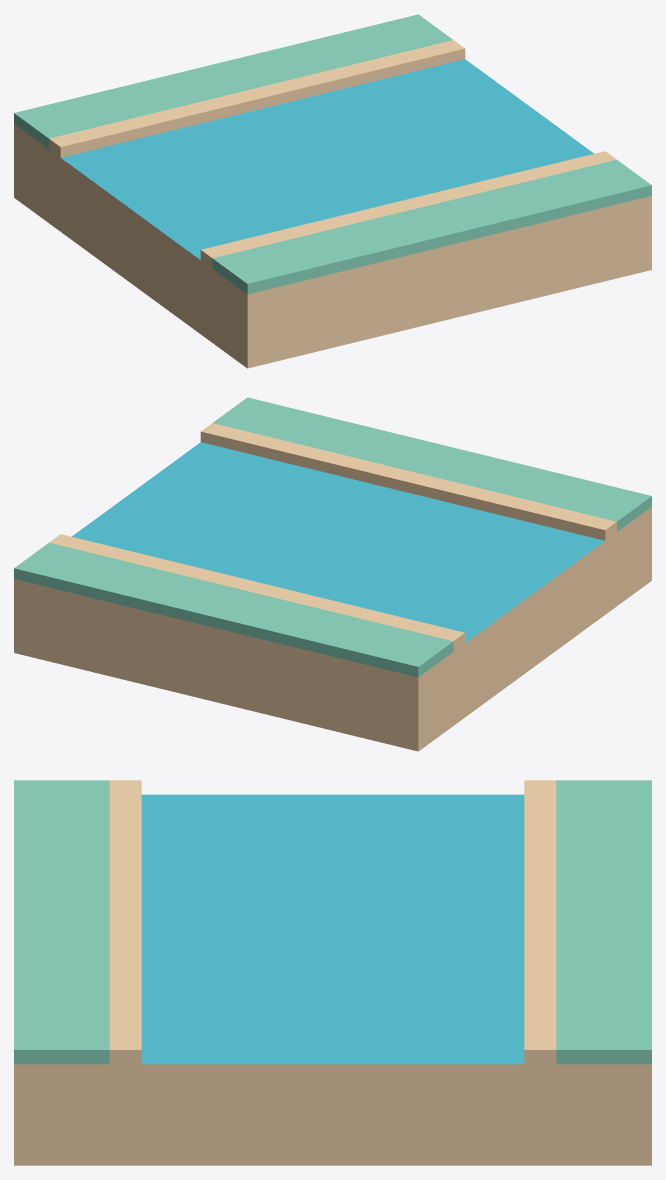
Rendered from Water_Straight.fbx.
The picture shows the model from 3 angles, top to bottom: view 1: azimuth 30°, elevation 25°; view 2: azimuth 150°, elevation 25°; view 3: azimuth 270°, elevation 25°; orthographic projection. The views are drawn at different scales.
Parts seen in each view (by area): view 1: Water_Straight; view 2: Water_Straight; view 3: Water_Straight.
Part boxes in pixels (x1=…): Water_Straight: x1=14, y1=14, x2=651, y2=368; Water_Straight: x1=14, y1=397, x2=651, y2=751; Water_Straight: x1=14, y1=780, x2=651, y2=1165.
Bounding box in the file's own units: 1 × 0.2 × 1.
